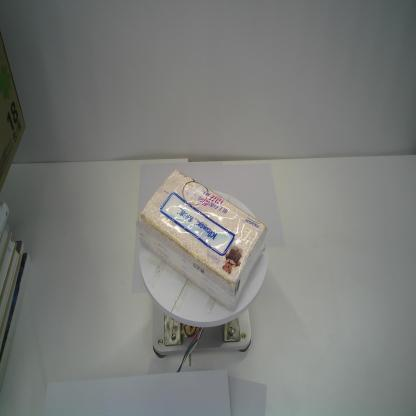Tissue: (134, 166, 268, 313)
